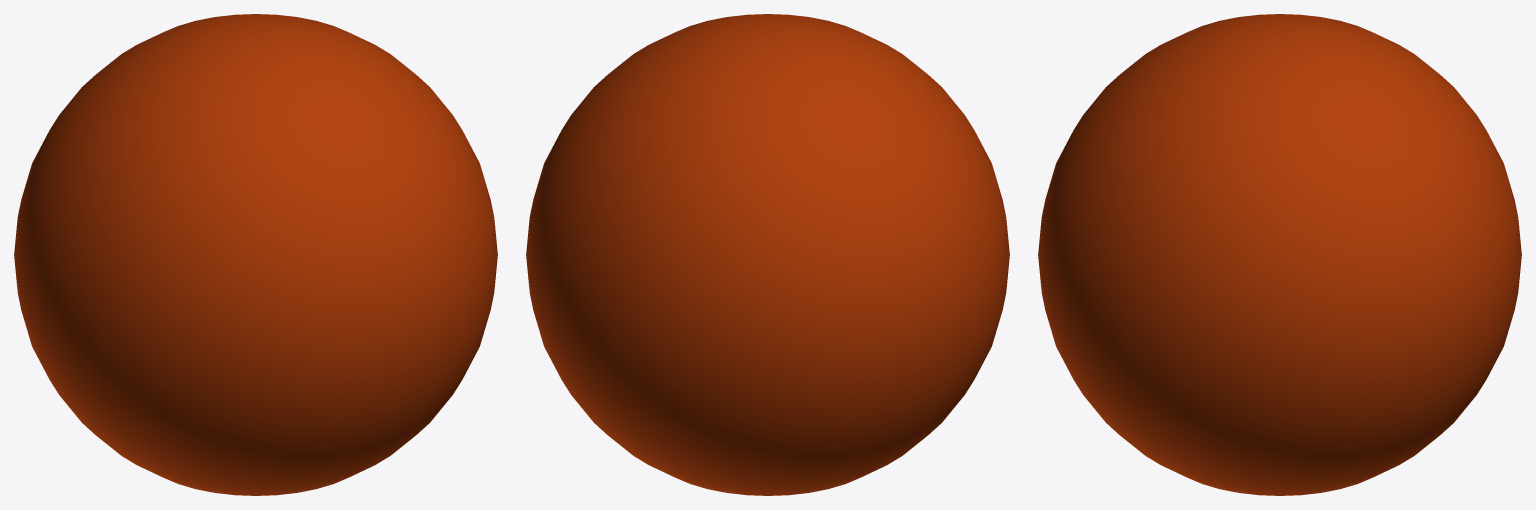
File: sphere-ground.glb
3 renders of one model, left to right at view 1: azimuth 30°, elevation 25°; view 2: azimuth 150°, elevation 25°; view 3: azimuth 270°, elevation 25°, orthographic.
Visible parts, largest first — view 1: sphere1; view 2: sphere1; view 3: sphere1.
Part boxes in pixels (x1,y1,x2,y2): sphere1: (14,14,497,495); sphere1: (526,14,1009,495); sphere1: (1038,14,1521,495).
Size of what is drawn, in the model's own units: 2 by 2 by 2.
